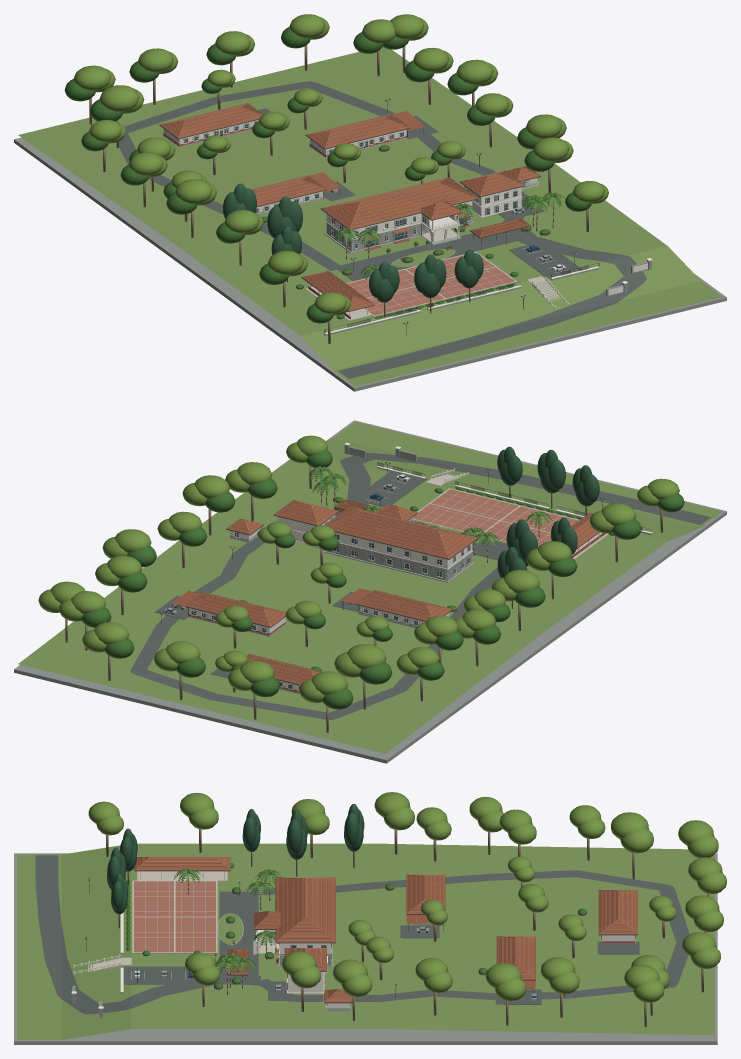
Rendered from Rumah_SS_VIP_Shared_Exterior.glb.
3 renders of one model, top to bottom at view 1: azimuth 30°, elevation 25°; view 2: azimuth 150°, elevation 25°; view 3: azimuth 270°, elevation 25°, orthographic. The views are drawn at different scales.
Parts seen in each view (by area): view 1: RUMAH_SlopingGround, RUMAH_MatureShadeCrowns_LeafLight, RUMAH_MatureShadeCrowns_Leaf, RUMAH_SitePlinth, RUMAH_UprightConifers, RUMAH_CurvedArrivalRoad, RUMAH_RearLoopDrive, RUMAH_MainHouse_HipRoof, RUMAH_PatternedCourt_Tiles, RUMAH_MainHouse_HipRoof_TileCourses_TileLight, RUMAH_ArrivalDrive, RUMAH_TreeTrunks (+16 smaller); view 2: RUMAH_SlopingGround, RUMAH_MatureShadeCrowns_LeafLight, RUMAH_MatureShadeCrowns_Leaf, RUMAH_SitePlinth, RUMAH_RearLoopDrive, RUMAH_UprightConifers, RUMAH_PatternedCourt_Tiles, RUMAH_CurvedArrivalRoad, RUMAH_MainHouse_HipRoof, RUMAH_MainHouse_HipRoof_TileCourses_TileLight, RUMAH_TreeTrunks, RUMAH_MainHouse_StoneLower (+16 smaller); view 3: RUMAH_SlopingGround, RUMAH_MatureShadeCrowns_LeafLight, RUMAH_SitePlinth, RUMAH_PatternedCourt_Tiles, RUMAH_RearLoopDrive, RUMAH_CurvedArrivalRoad, RUMAH_MainHouse_HipRoof, RUMAH_UprightConifers, RUMAH_ArrivalDrive, RUMAH_TreeTrunks, RUMAH_RearNorthLodge_HipRoof, RUMAH_RearEastLodge_HipRoof (+19 smaller).
Part boxes in pixels (x1,y1,x2,y2): RUMAH_SlopingGround: [18, 46, 722, 386]; RUMAH_MatureShadeCrowns_LeafLight: [73, 14, 608, 315]; RUMAH_MatureShadeCrowns_Leaf: [64, 27, 591, 323]; RUMAH_SitePlinth: [14, 137, 726, 391]; RUMAH_UprightConifers: [223, 183, 483, 302]; RUMAH_CurvedArrivalRoad: [338, 230, 646, 378]; RUMAH_RearLoopDrive: [119, 81, 532, 271]; RUMAH_MainHouse_HipRoof: [321, 177, 477, 228]; RUMAH_PatternedCourt_Tiles: [347, 252, 514, 315]; RUMAH_MainHouse_HipRoof_TileCourses_TileLight: [322, 177, 475, 228]; RUMAH_ArrivalDrive: [334, 229, 533, 280]; RUMAH_TreeTrunks: [89, 45, 588, 343]; RUMAH_SlopingGround: [18, 422, 722, 753]; RUMAH_MatureShadeCrowns_LeafLight: [38, 435, 679, 702]; RUMAH_MatureShadeCrowns_Leaf: [81, 450, 684, 709]; RUMAH_SitePlinth: [14, 420, 726, 763]; RUMAH_RearLoopDrive: [130, 521, 500, 719]; RUMAH_UprightConifers: [497, 446, 599, 577]; RUMAH_PatternedCourt_Tiles: [411, 489, 578, 547]; RUMAH_CurvedArrivalRoad: [338, 452, 710, 524]; RUMAH_MainHouse_HipRoof: [325, 507, 477, 558]; RUMAH_MainHouse_HipRoof_TileCourses_TileLight: [325, 507, 475, 557]; RUMAH_TreeTrunks: [65, 465, 662, 732]; RUMAH_MainHouse_StoneLower: [328, 543, 472, 580]; RUMAH_SlopingGround: [17, 843, 714, 1039]; RUMAH_MatureShadeCrowns_LeafLight: [88, 792, 726, 1002]; RUMAH_SitePlinth: [14, 853, 717, 1044]; RUMAH_PatternedCourt_Tiles: [134, 881, 215, 952]; RUMAH_RearLoopDrive: [251, 870, 689, 1001]; RUMAH_CurvedArrivalRoad: [35, 855, 261, 1014]; RUMAH_MainHouse_HipRoof: [275, 877, 335, 942]; RUMAH_UprightConifers: [107, 804, 364, 914]; RUMAH_ArrivalDrive: [219, 891, 258, 983]; RUMAH_TreeTrunks: [106, 829, 709, 1026]; RUMAH_RearNorthLodge_HipRoof: [599, 890, 637, 934]; RUMAH_RearEastLodge_HipRoof: [496, 937, 535, 979].
Size of the model in its own units: 153 by 29.87 by 237.
